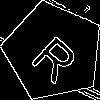R: (28, 27, 87, 86)
